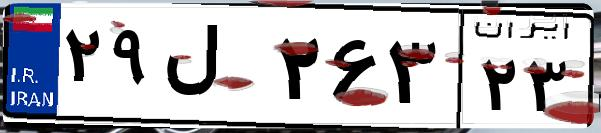2: (270, 28, 330, 110), (57, 26, 110, 100), (475, 38, 525, 113)
3: (385, 28, 445, 110), (525, 38, 570, 115)
6: (330, 28, 385, 110)
9: (110, 28, 158, 98)
ل: (158, 20, 270, 120)
